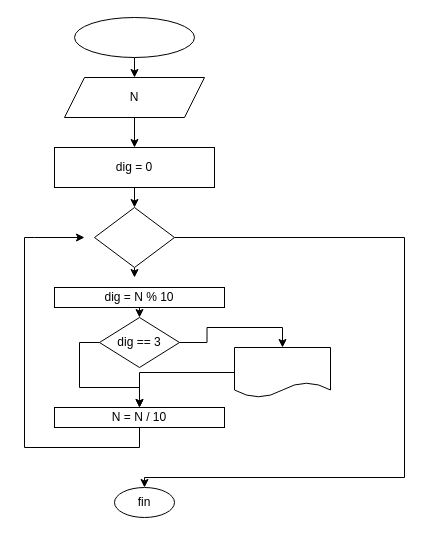
The diagram is 430 pixels wide and 535 high, and some of its shapes have lost their labels. Each missing label, with the box of its shape:
existe el di: (234, 346, 330, 398)
inicio: (74, 16, 194, 58)
N ! = 0: (94, 206, 174, 268)
